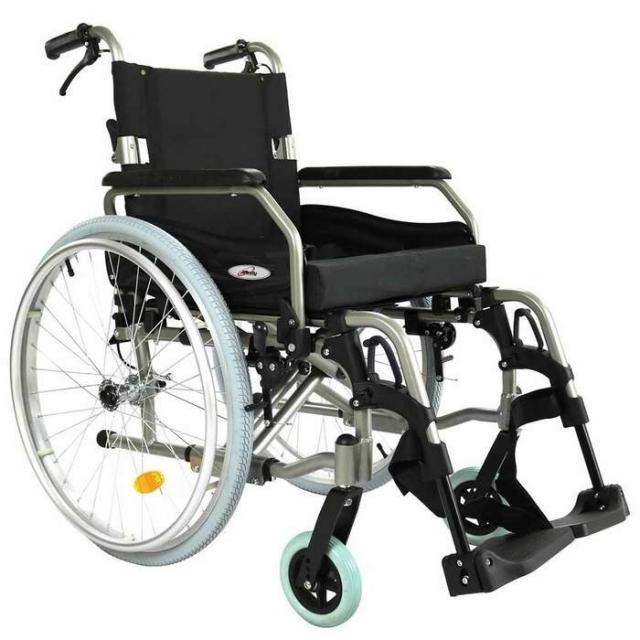wheelchair: (5, 24, 638, 634)
